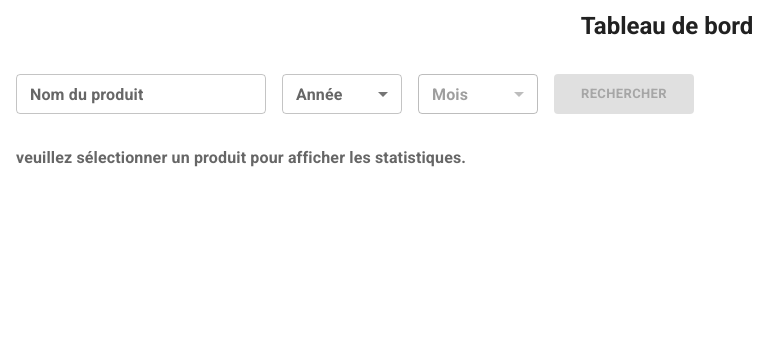
Scenario: DashboardPage › disables the Month field if no year is selected
Press the mouse on the dropdown named "année" next to "Année": x=342, y=94 [282,74,402,114]
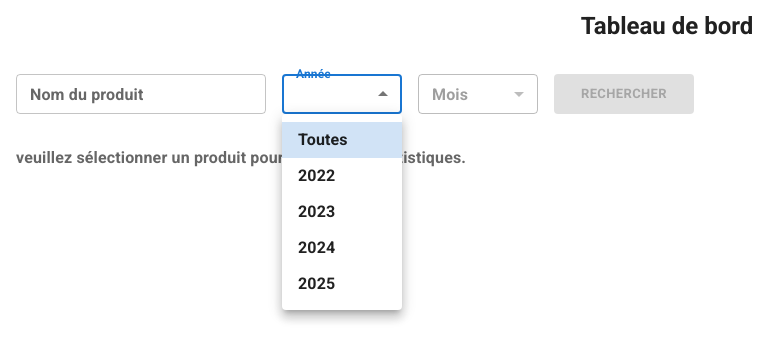
Click the option "2024": x=317, y=248 [298,238,335,257]
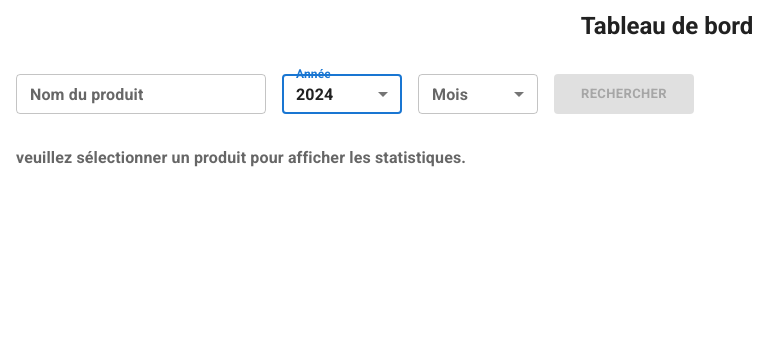
Result: the dropdown named "année" reads "2024" at [296,84,333,104]
